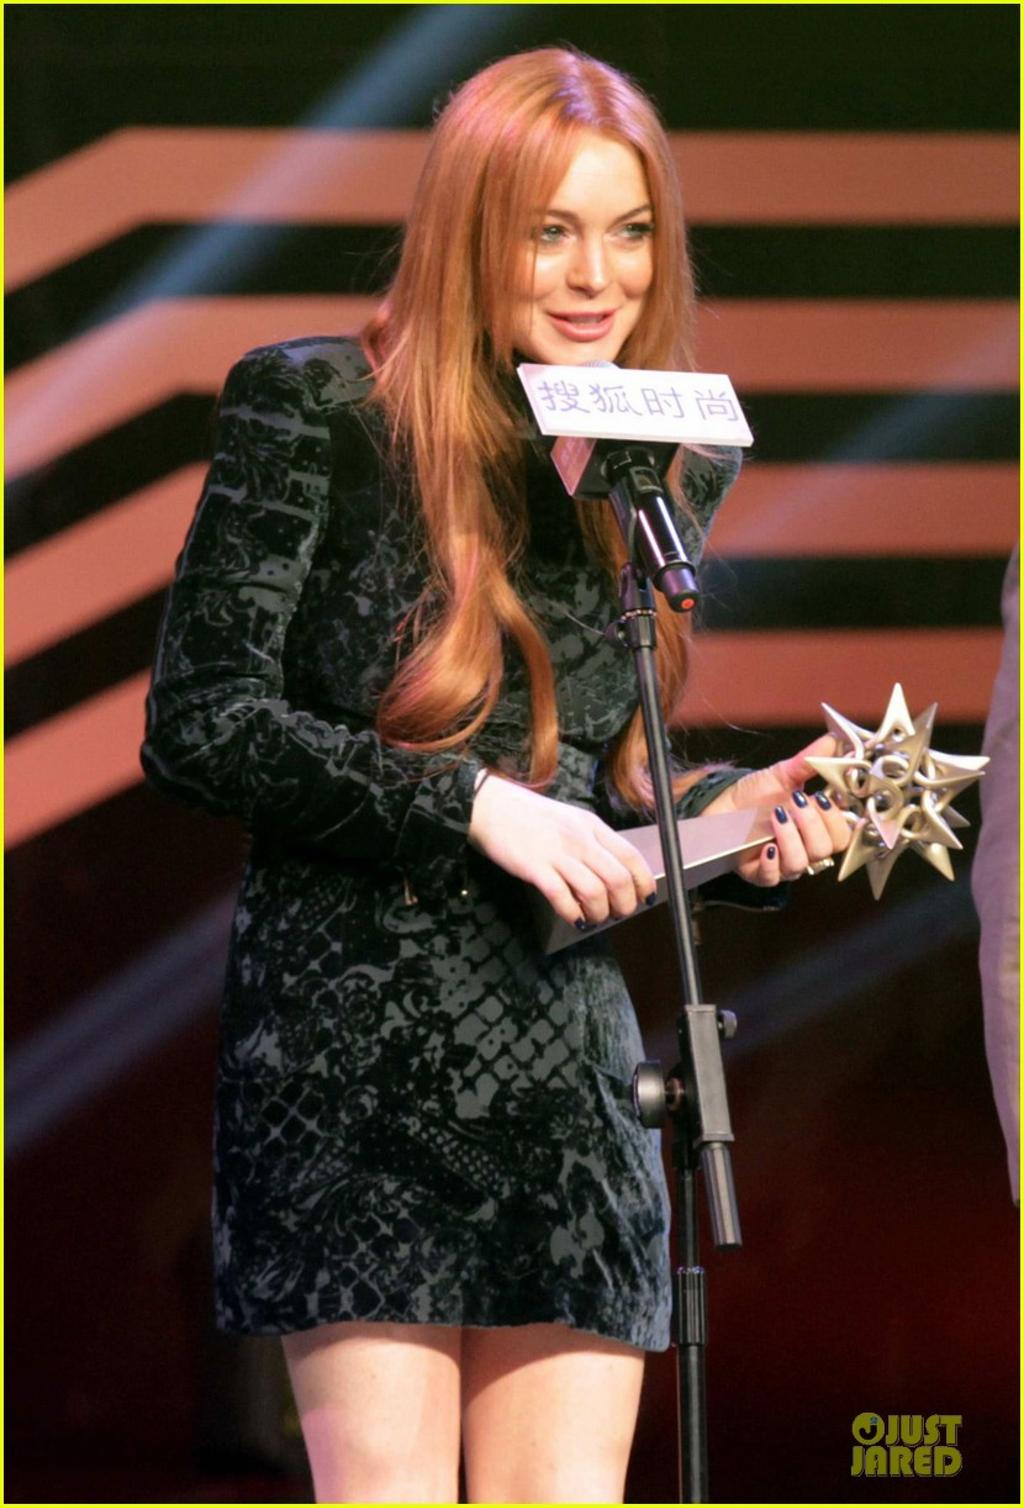face: (497, 109, 659, 368)
